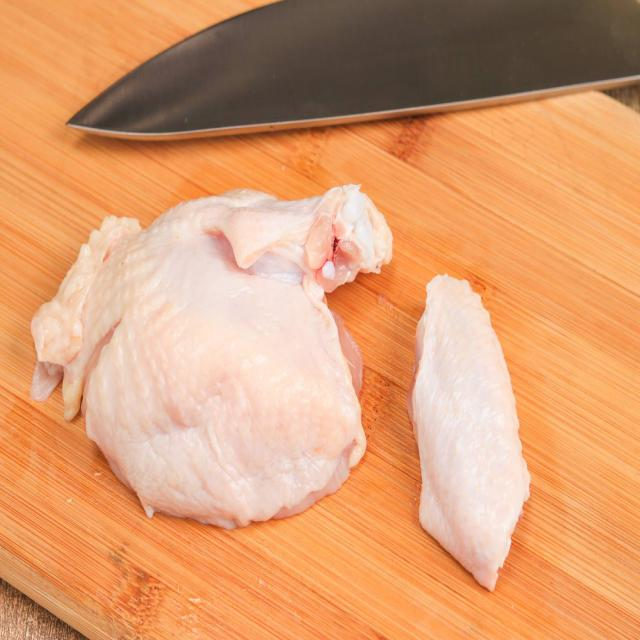chicken: (30, 184, 393, 529), (411, 275, 531, 592)
